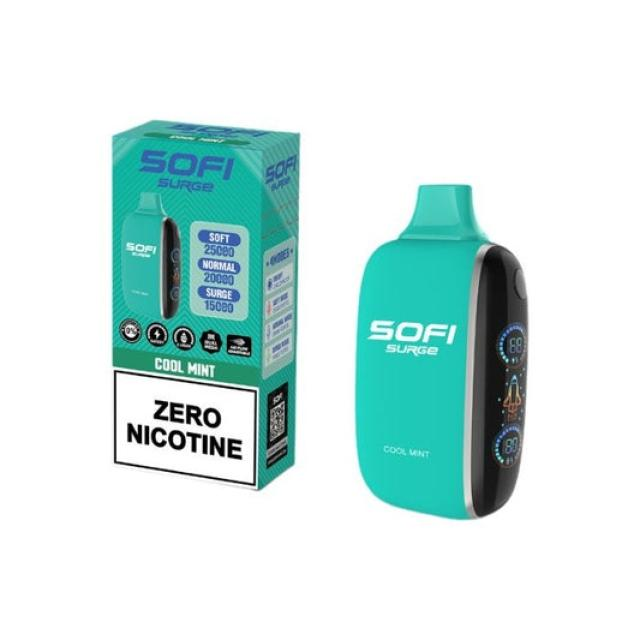Vape-images: (109, 118, 300, 491), (353, 181, 530, 520)
